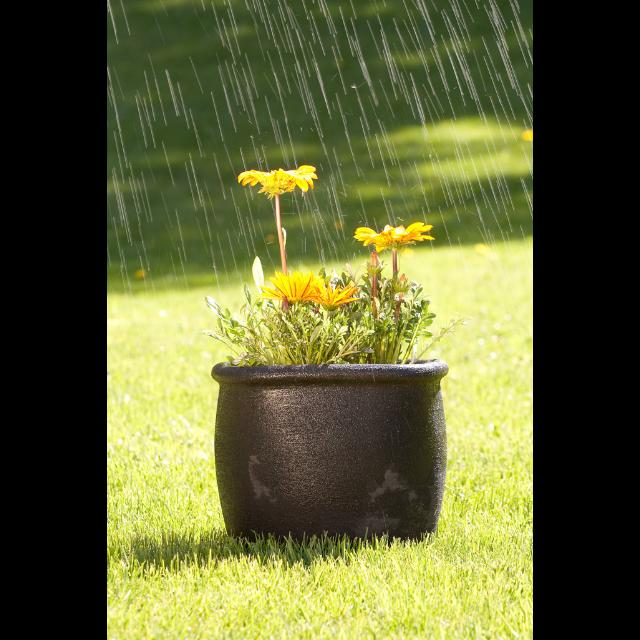Flower: (353, 210, 429, 254), (235, 165, 318, 198), (261, 269, 315, 303), (310, 276, 360, 304)
